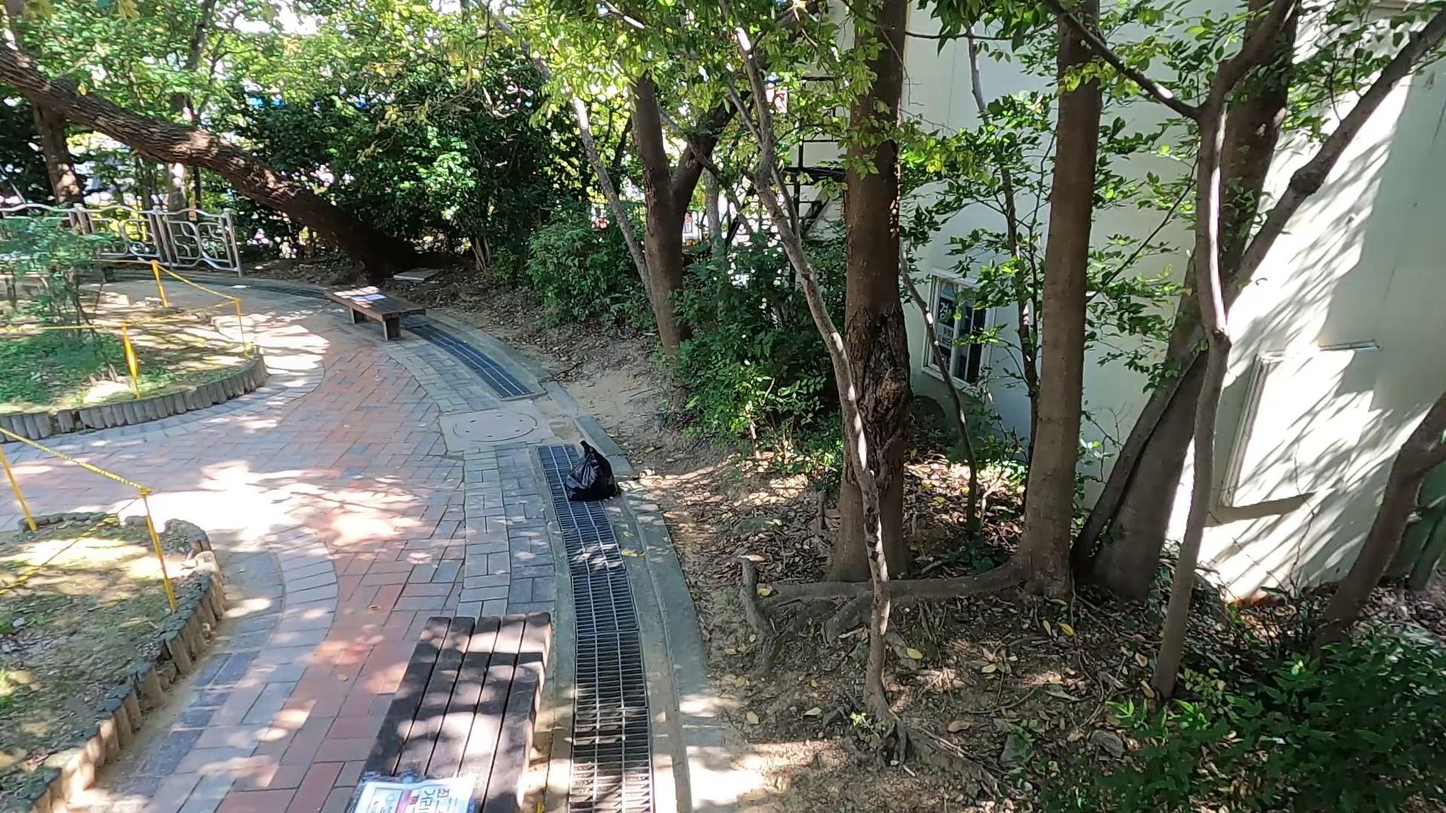trash: (564, 439, 618, 500)
